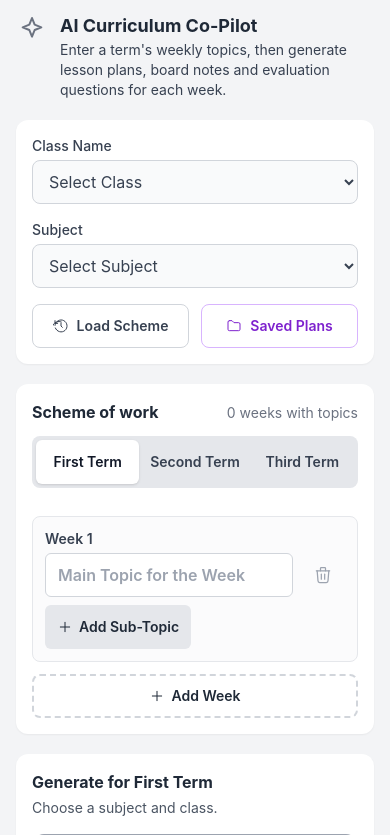
Test: LessonPlannerScreen › when the saved plans fail to load: Generate stays off, Retry loads them
Select "SSS 1 A" in the dropdown labelled "Class Name" at (195, 182), box [32,160,358,204]
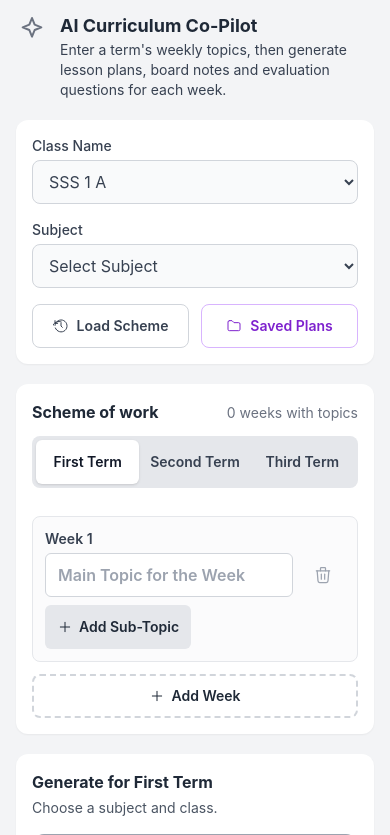
Select "Mathematics" in the dropdown labelled "Subject" at (195, 266), box [32,244,358,288]
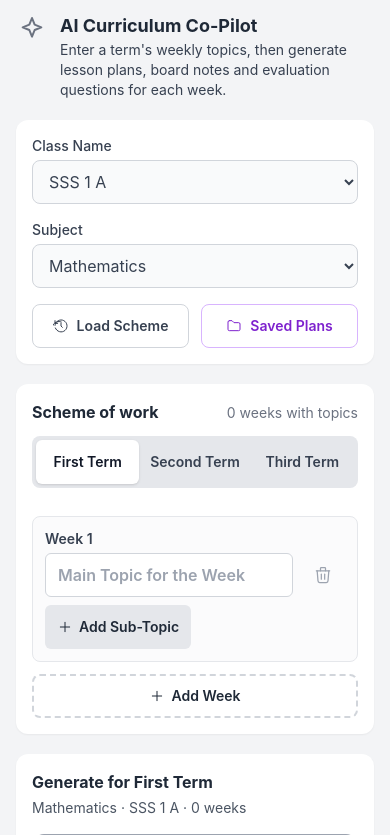
Type "Number bases" into the field with placeholder "Main Topic for the Week".
click(169, 575); type("Number bases")  # box [45,553,293,597]
(page scrolled)
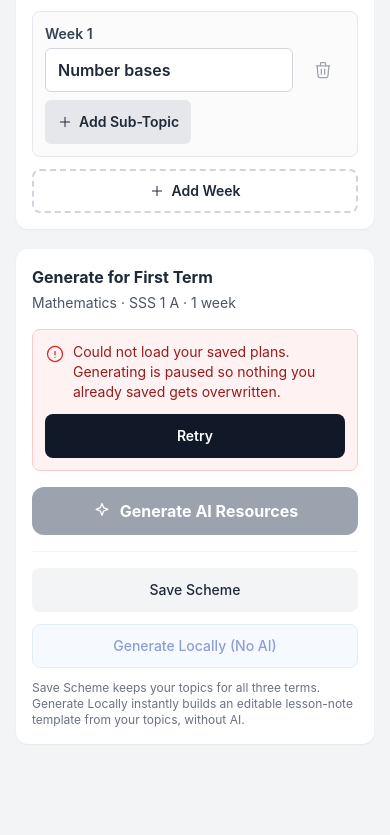
Expected: the button "Generate AI Resources" is disabled, [32,487,358,535]
Expected: the message shows "Could not load your saved plans", [73,343,315,400]
Click the button "Retry".
click(195, 436)  # box [45,414,345,458]
(page scrolled)
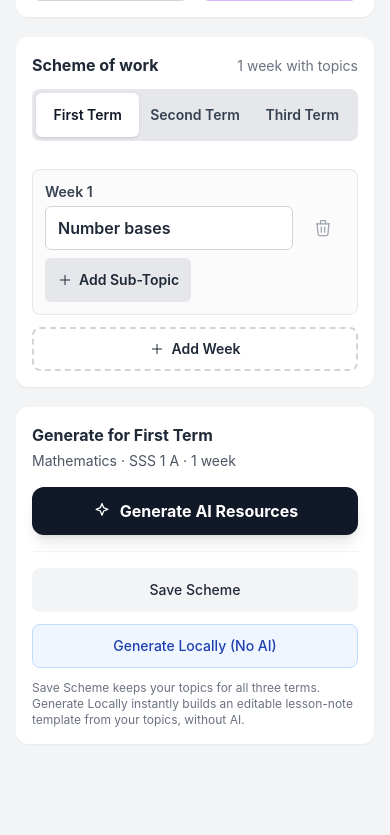
Expected: the button "Generate AI Resources" is enabled, [32,487,358,535]
